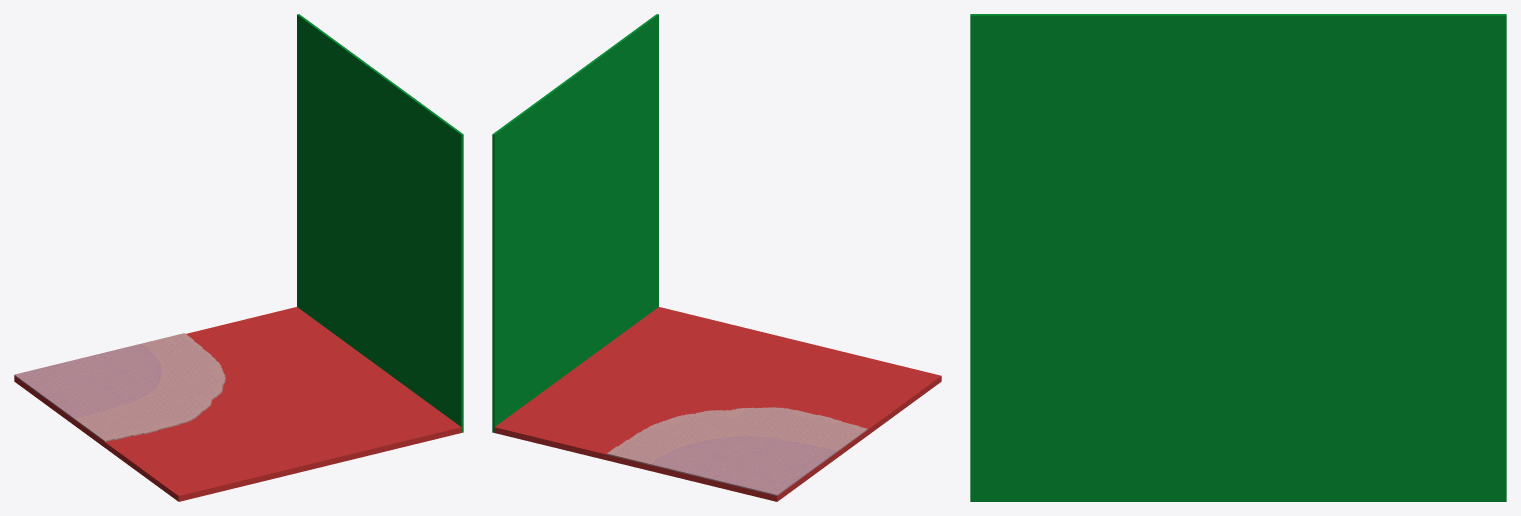
Rendered from goodnight-moon-31-background-front.obj.
3 renders of one model, left to right at view 1: azimuth 30°, elevation 25°; view 2: azimuth 150°, elevation 25°; view 3: azimuth 270°, elevation 25°, orthographic. The views are drawn at different scales.
Visible parts, largest first — view 1: background-front; view 2: background-front; view 3: background-front.
Boxes of the visible parts, x1=… form: background-front: x1=14, y1=14, x2=463, y2=501; background-front: x1=492, y1=14, x2=941, y2=501; background-front: x1=970, y1=14, x2=1506, y2=501.
Size of the model in its own units: 25.6 by 25.6 by 25.6.
Materials: 1 (1 with a texture image).
